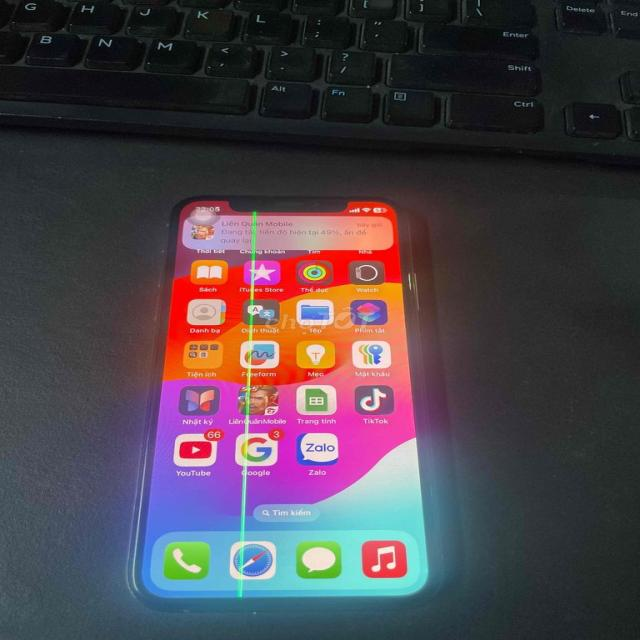gen_x_xs: (130, 196, 452, 638)
